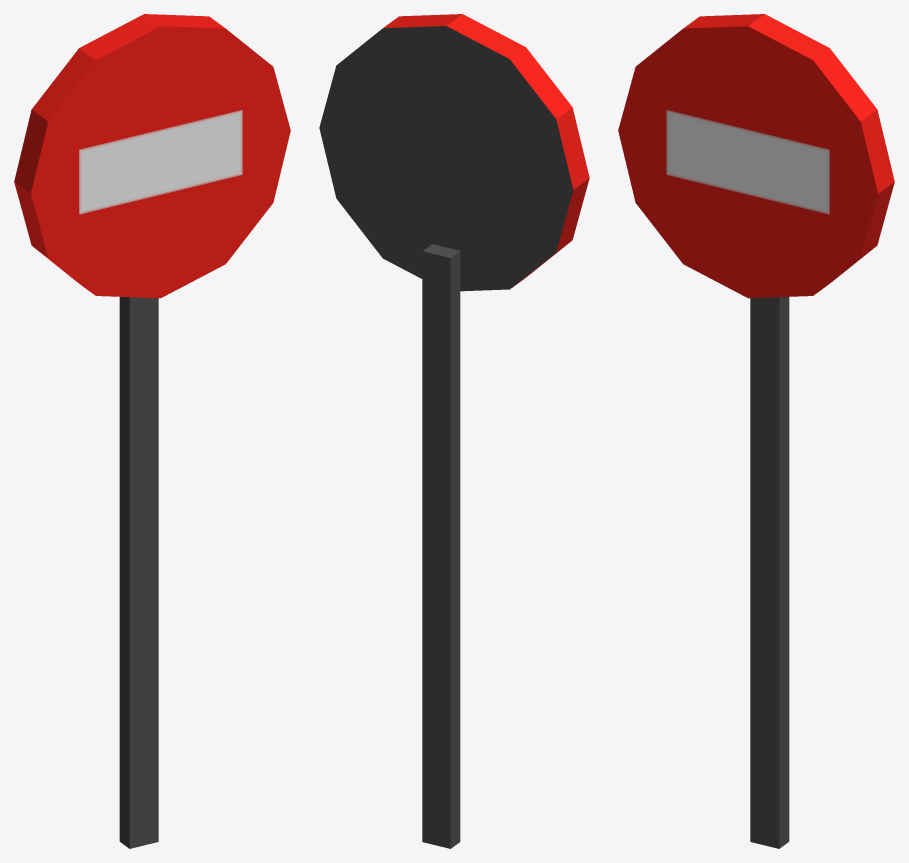
The model's file is traffic_forbidden.glb.
The picture shows the model from 3 angles, left to right: view 1: azimuth 30°, elevation 25°; view 2: azimuth 150°, elevation 25°; view 3: azimuth 330°, elevation 25°; orthographic projection. The views are drawn at different scales.
Parts seen in each view (by area): view 1: Circle, Plane; view 2: Circle, Plane; view 3: Circle, Plane.
Part boxes in pixels (x1=…): Circle: x1=14, y1=14, x2=290, y2=298; Plane: x1=119, y1=297, x2=158, y2=848; Circle: x1=319, y1=14, x2=589, y2=291; Plane: x1=422, y1=244, x2=460, y2=848; Circle: x1=618, y1=14, x2=894, y2=298; Plane: x1=750, y1=297, x2=789, y2=848.
Size of what is drawn, in the model's own units: 0.9 by 2.75 by 0.16.
Materials: 4 (1 with a texture image).
